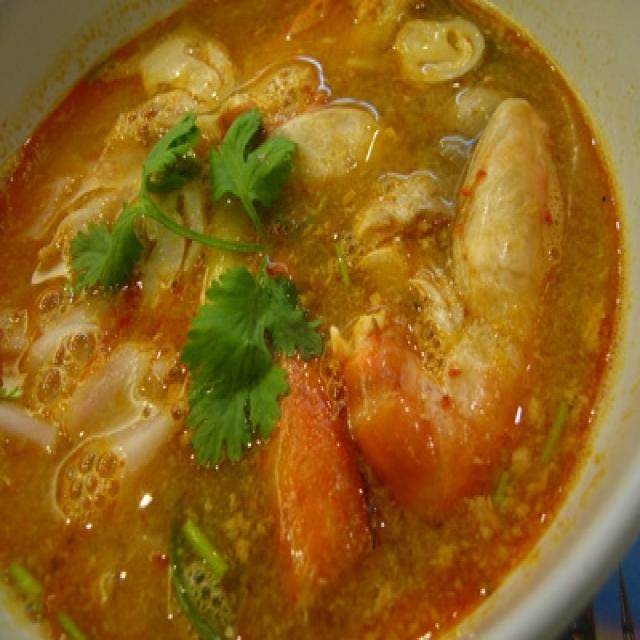汤锅炖物: (26, 36, 604, 602)
